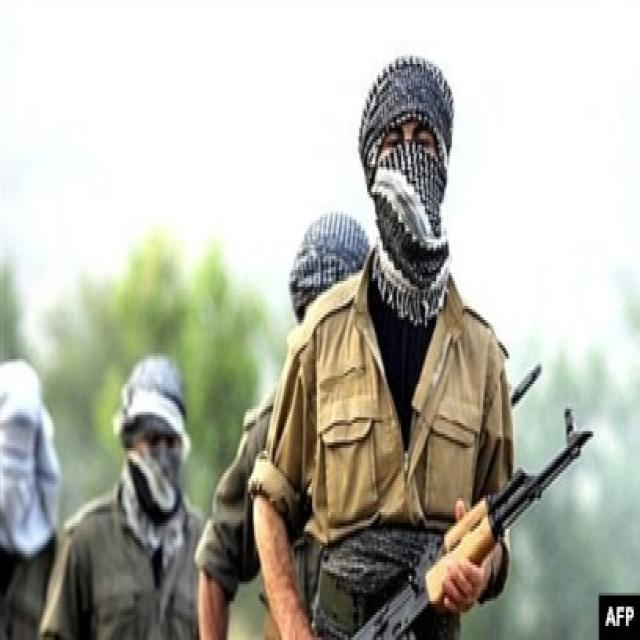Militant: (262, 30, 580, 640), (192, 188, 391, 640), (56, 334, 240, 640), (1, 322, 62, 640)
